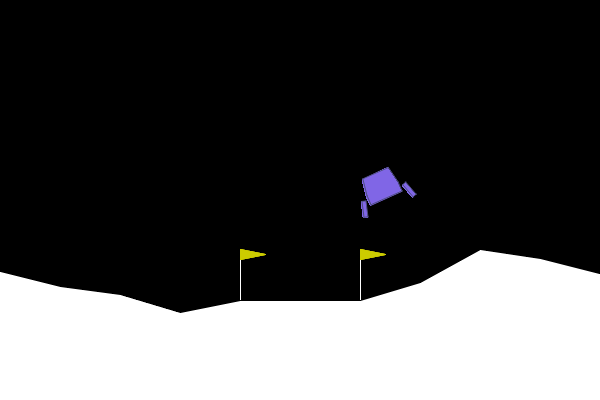lander: (347, 159, 418, 220)
